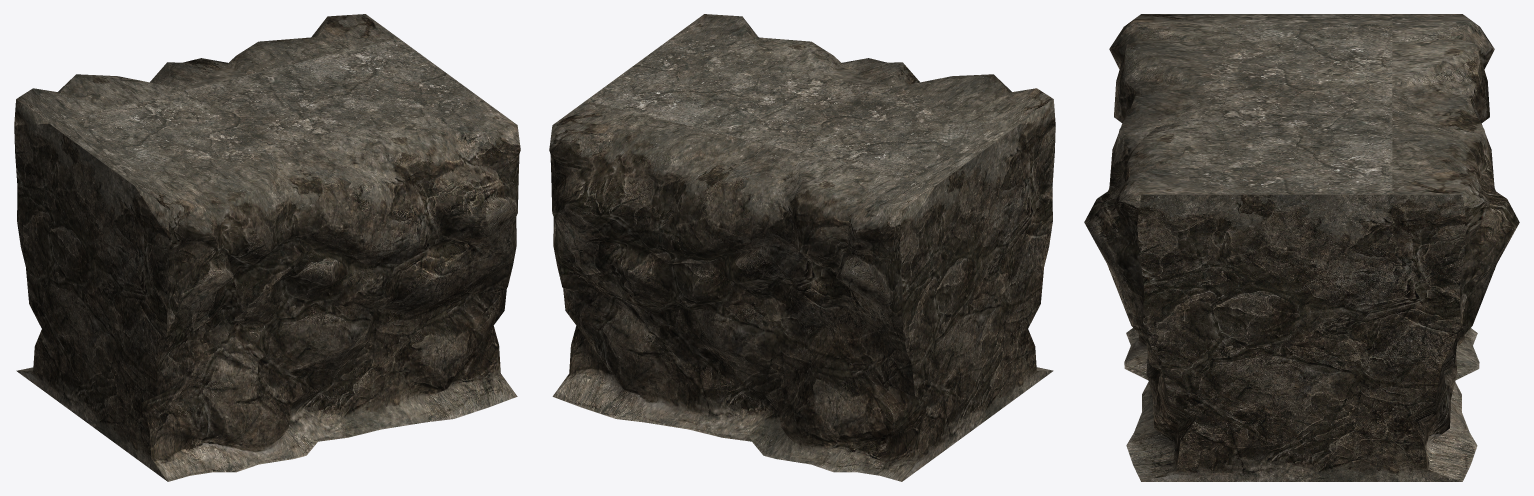
The model's file is SM_Env_Fire_Cliffs_CliffWall_03c.FBX.
3 renders of one model, left to right at view 1: azimuth 30°, elevation 25°; view 2: azimuth 150°, elevation 25°; view 3: azimuth 270°, elevation 25°, orthographic. The views are drawn at different scales.
Visible parts, largest first — view 1: SM_Env_Fire_Cliffs_CliffWall_03c; view 2: SM_Env_Fire_Cliffs_CliffWall_03c; view 3: SM_Env_Fire_Cliffs_CliffWall_03c.
Boxes of the visible parts, left/top/right/bottom form: SM_Env_Fire_Cliffs_CliffWall_03c: left=14, top=14, right=520, bottom=481; SM_Env_Fire_Cliffs_CliffWall_03c: left=549, top=14, right=1055, bottom=481; SM_Env_Fire_Cliffs_CliffWall_03c: left=1084, top=14, right=1519, bottom=481.
Size of the model in its own units: 1020 by 1040 by 768.
